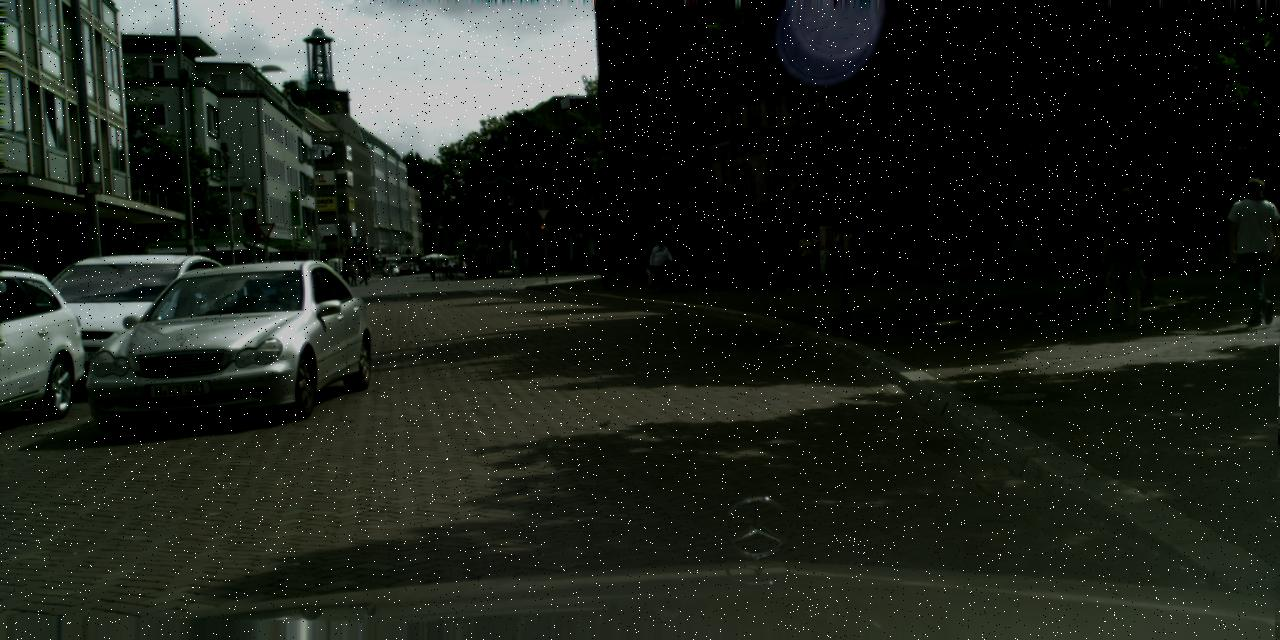ped: (1098, 187, 1154, 327), (1229, 178, 1279, 320), (834, 223, 858, 281), (796, 230, 818, 286), (649, 238, 670, 290), (642, 243, 657, 280), (597, 252, 611, 289), (349, 261, 359, 285), (341, 263, 350, 286), (428, 257, 437, 279), (360, 262, 368, 283), (443, 256, 451, 276), (388, 262, 393, 277)
